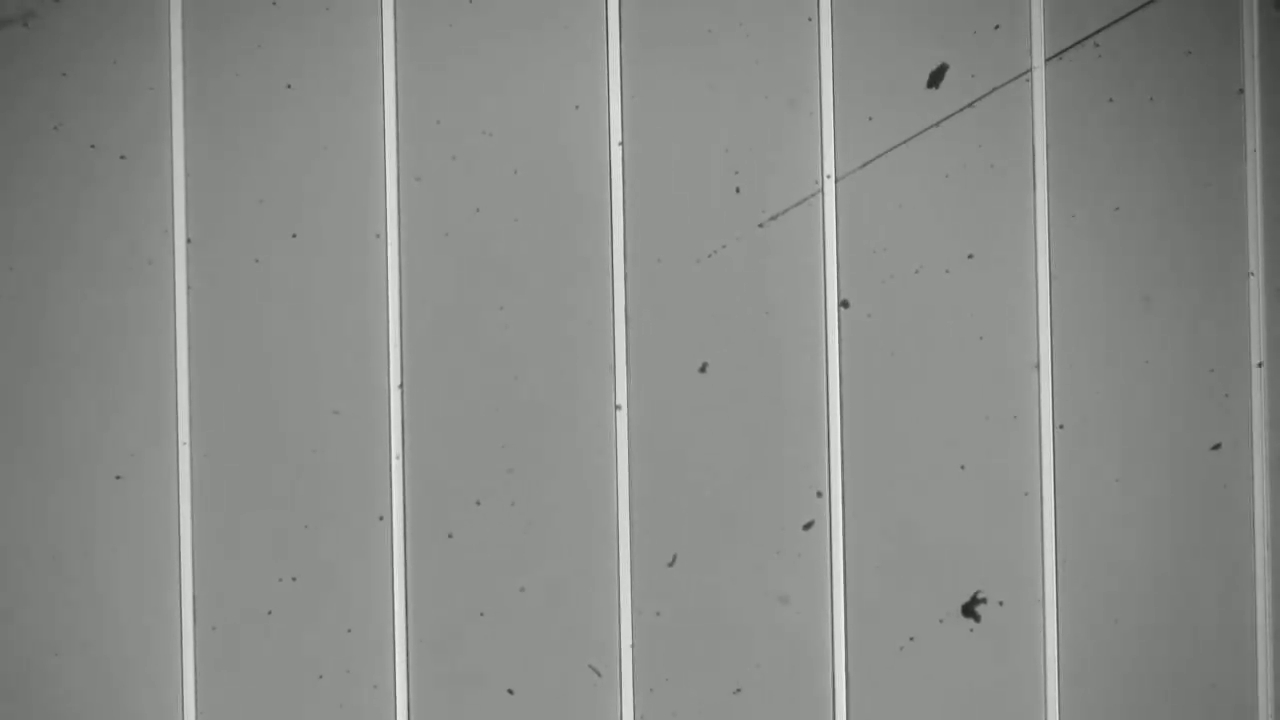scratch: (696, 2, 1163, 260)
